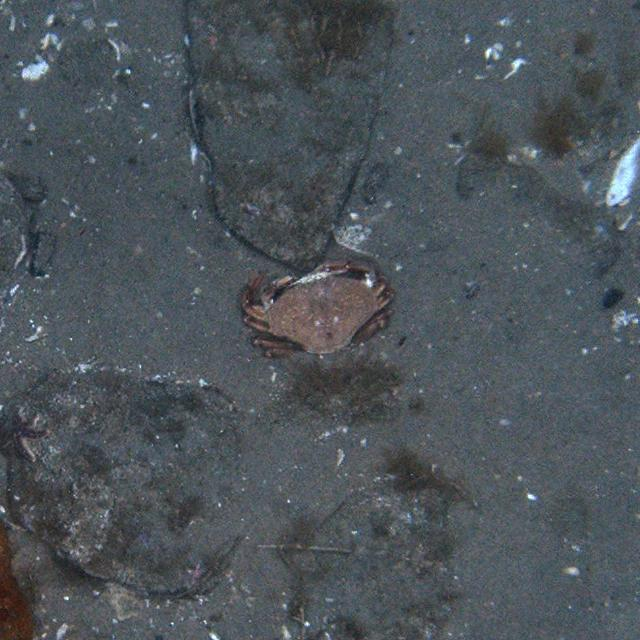crab: (238, 261, 392, 361)
